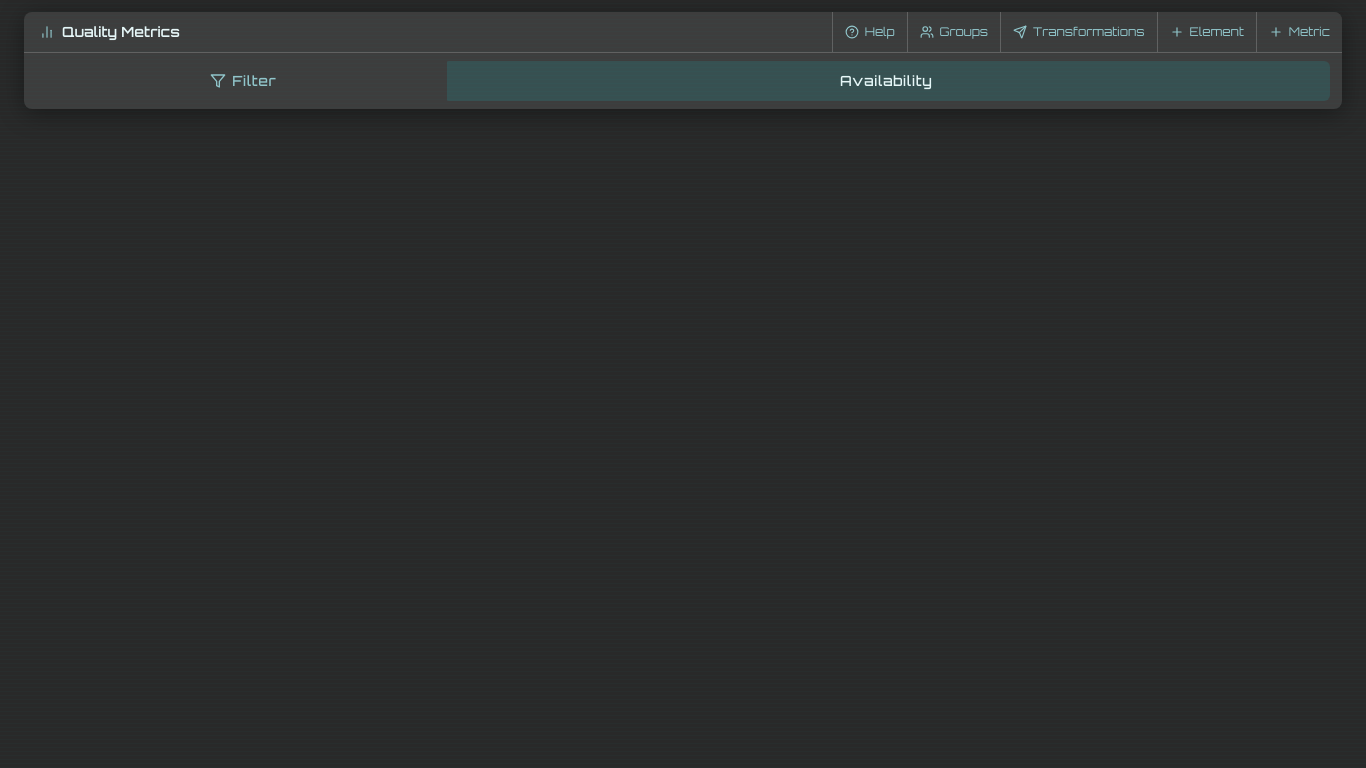
MetricsView › selecting a template pre-fills the form fields
The image size is (1366, 768).
Click the button titled "Add metric".
click(1299, 32)  # box [1256,12,1342,52]
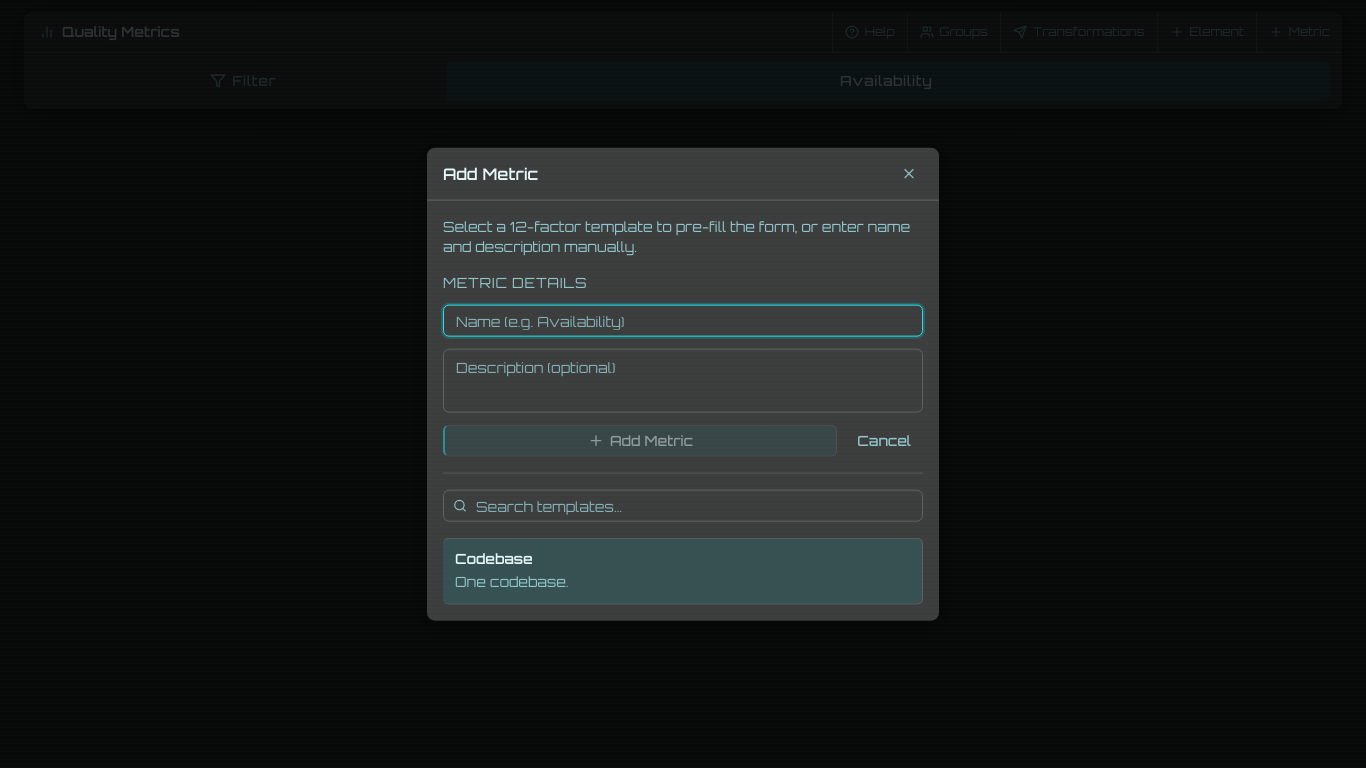
expect the text "Codebase" is shown: met
Click the text "Codebase".
click(494, 558)  # box [455,550,533,567]
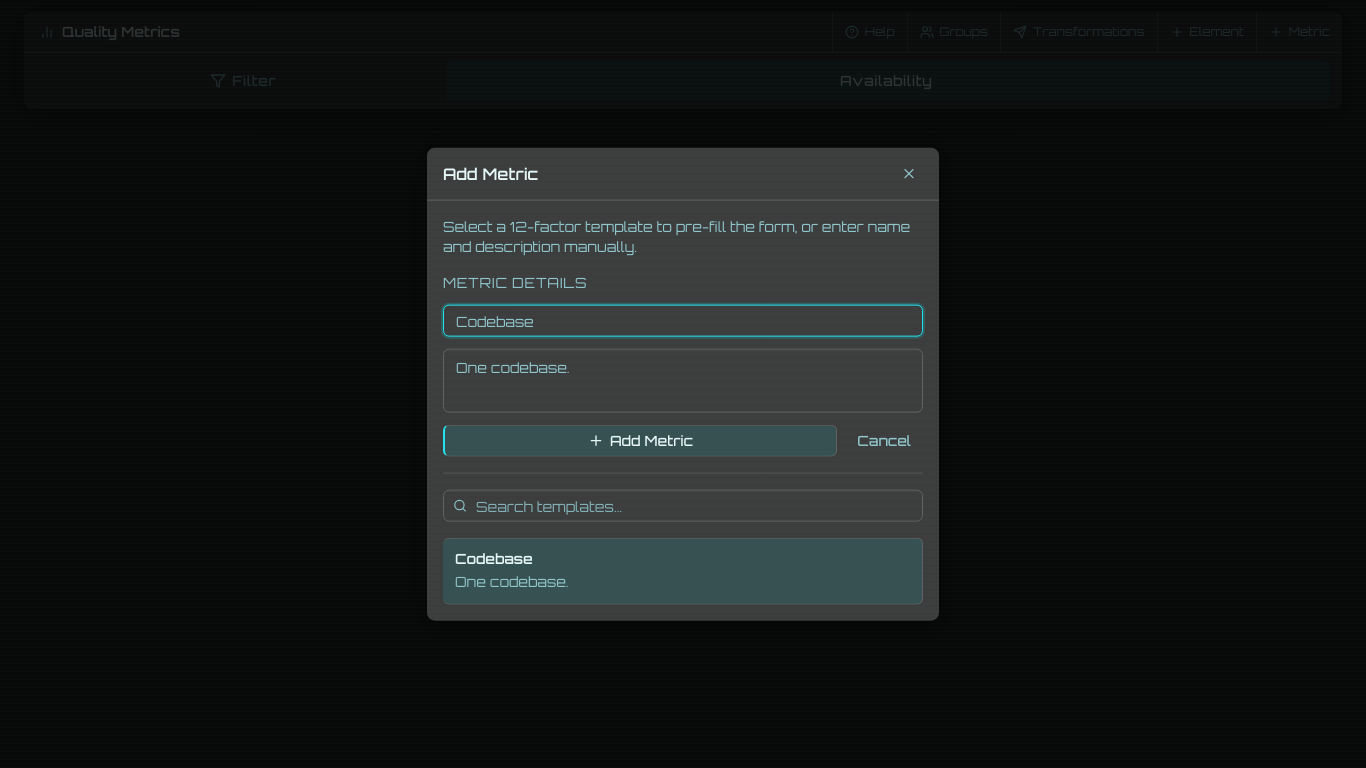
expect the field with placeholder "Name (e.g. Availability)" holds "Codebase": met, box [443,305,923,337]
expect the text box with placeholder "Description (optional)" holds "One codebase.": met, box [443,349,923,413]
